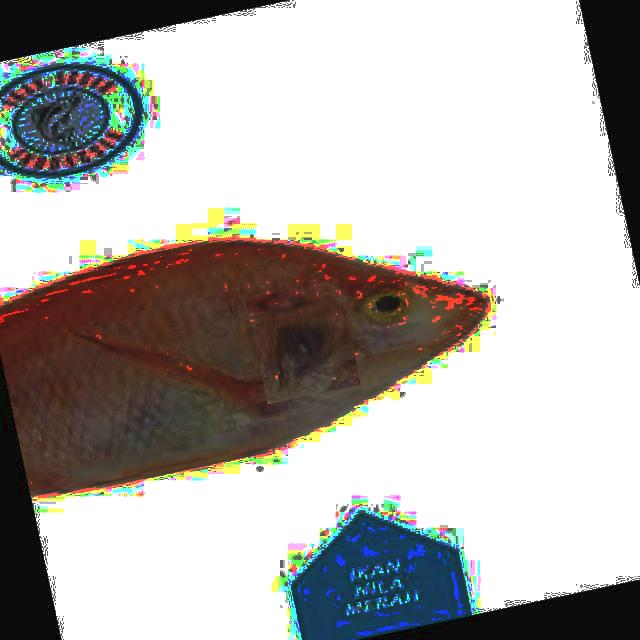Aeromonas Septicemia: (0, 242, 488, 496)
